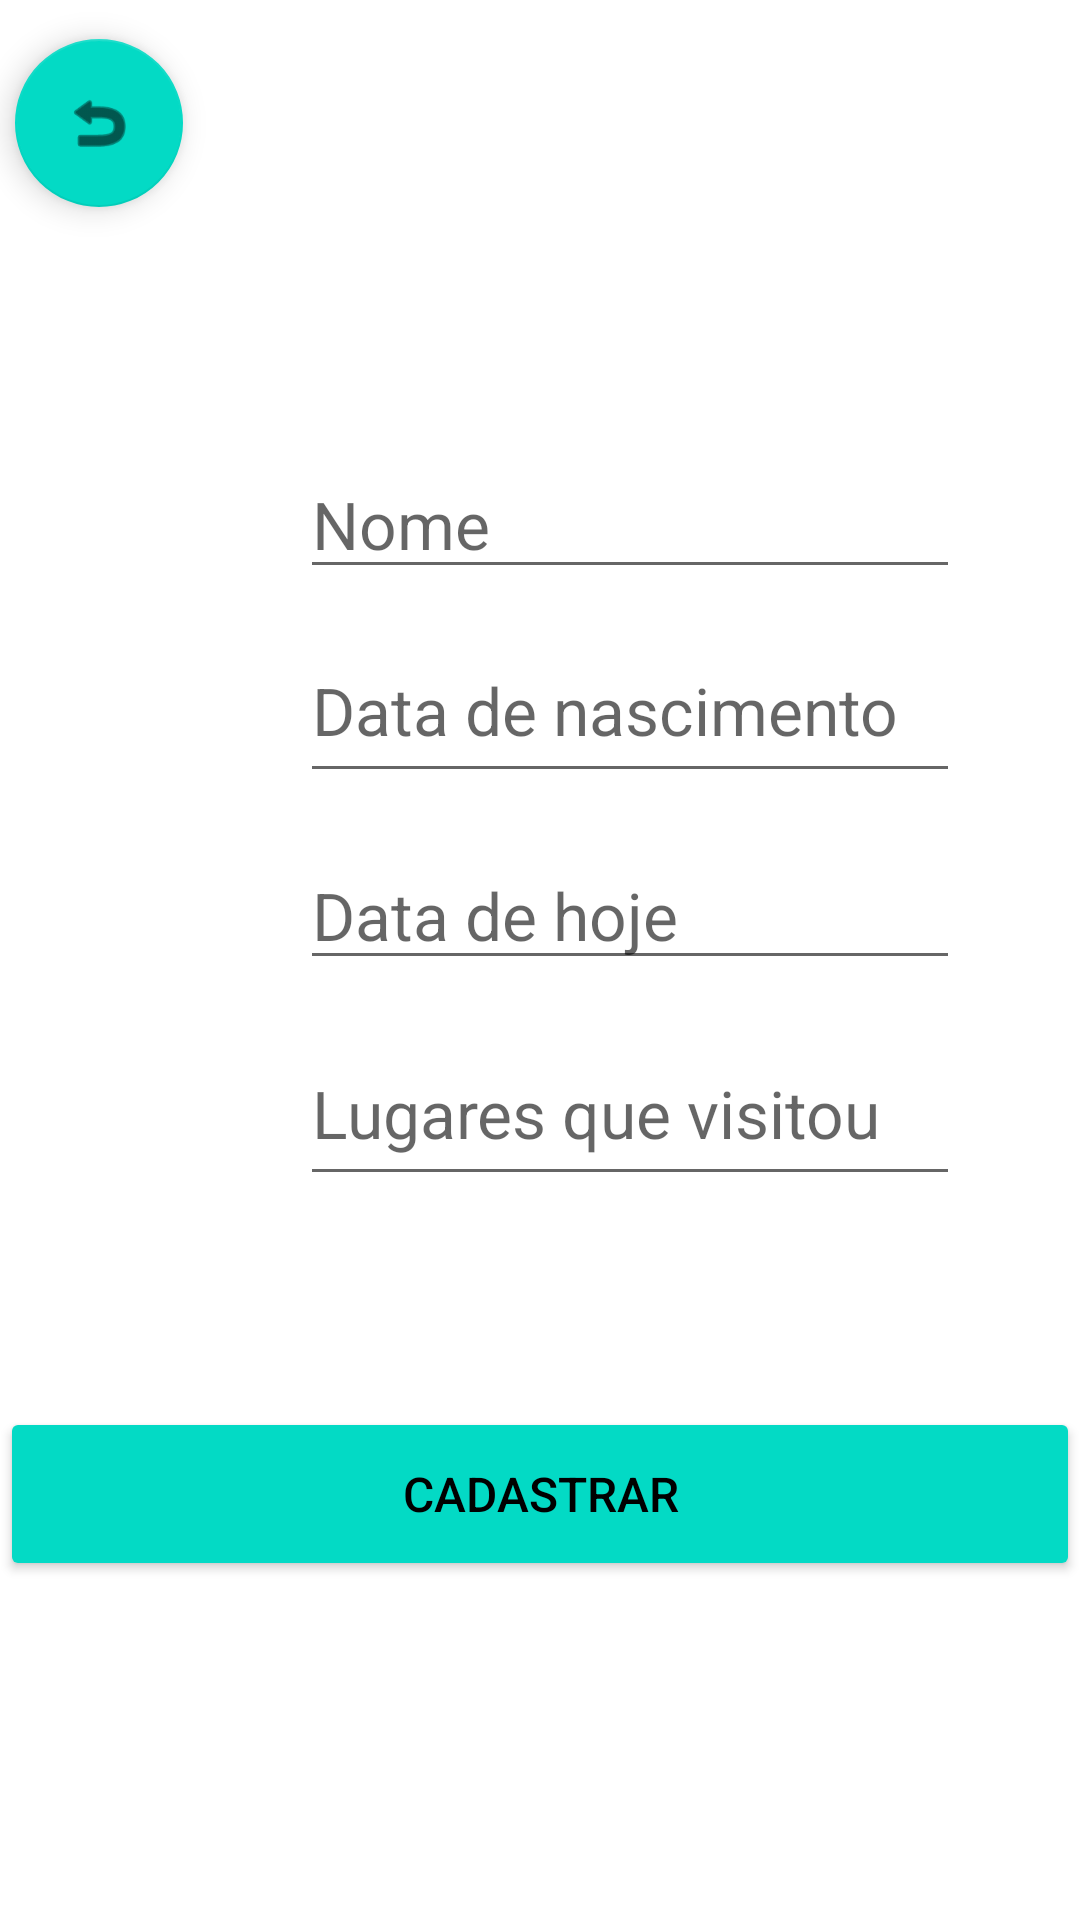

Point at icon controls on the screen. Image size 1080*1920, points as (x,y).
revert: (99,123)
